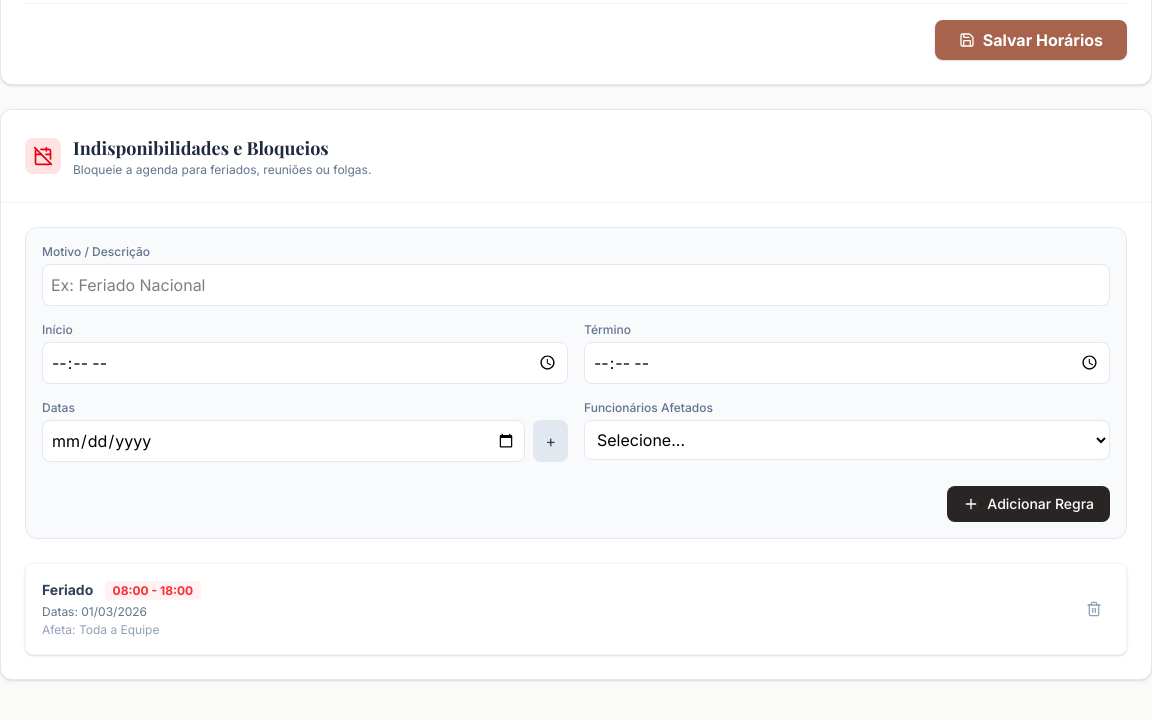
pages/BusinessHoursSettings — regras de indisponibilidade › falha de removeUnavailabilityRule mostra toast de erro
(page scrolled)
Click the 4th button.
click(1094, 609)  # box [1078, 593, 1110, 625]
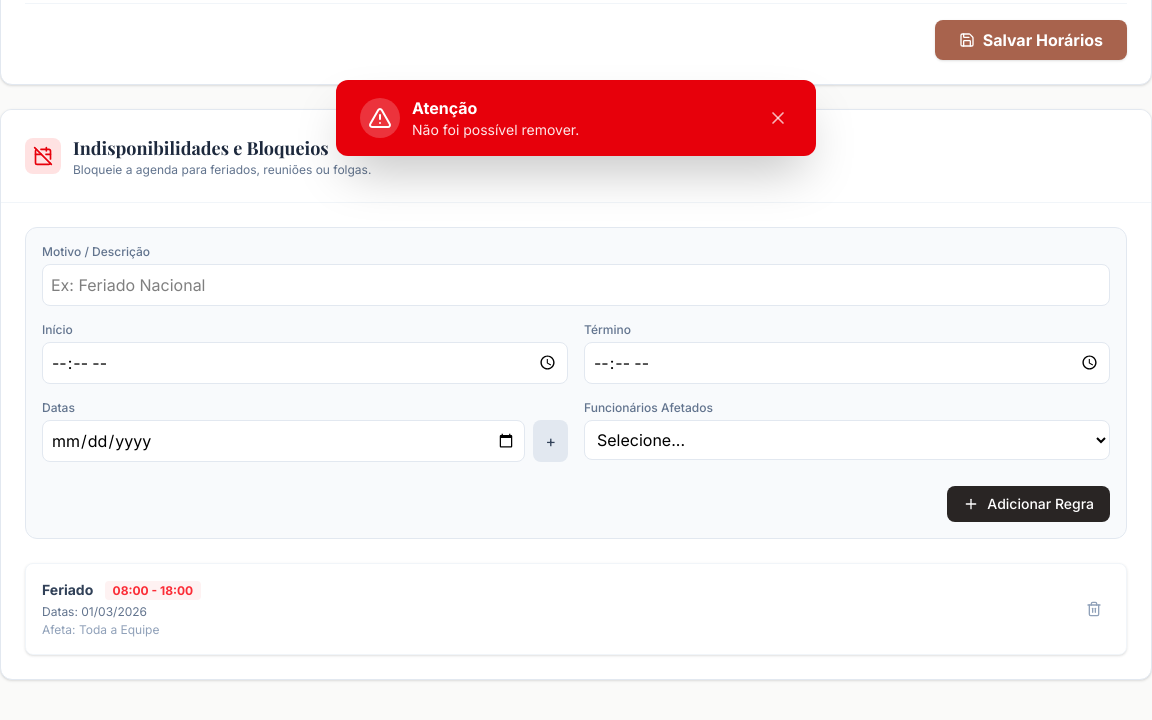
Result: the text "Não foi possível remover." is shown at [412, 120, 579, 140]
